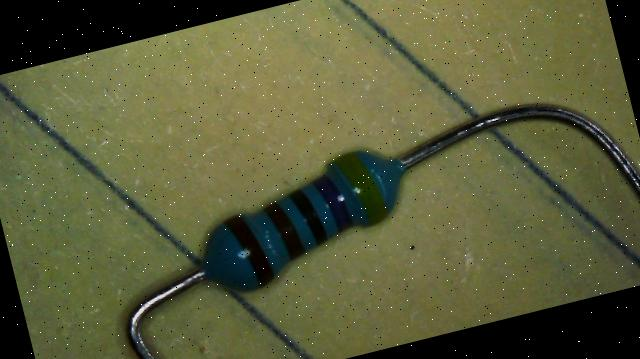black: (287, 185, 328, 248)
brown: (223, 210, 276, 291), (262, 198, 304, 262)
resistor: (179, 132, 432, 302)
violet: (312, 172, 353, 235)
yellow: (335, 147, 389, 228)
